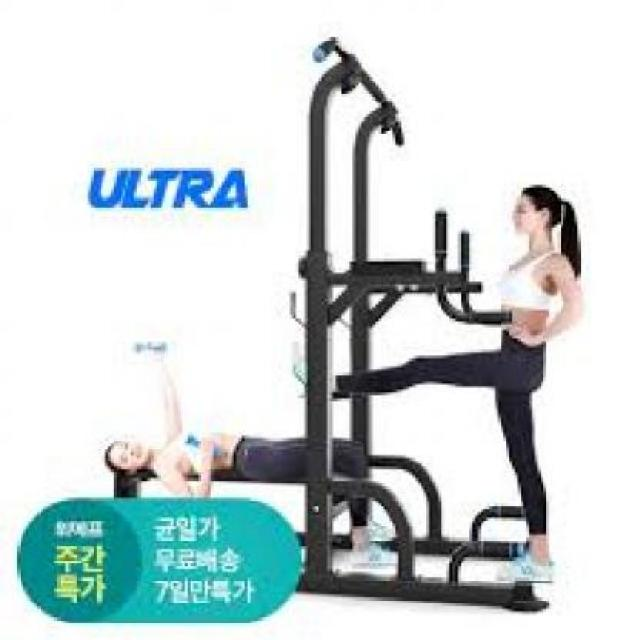chinning dipping: (308, 34, 512, 612)
